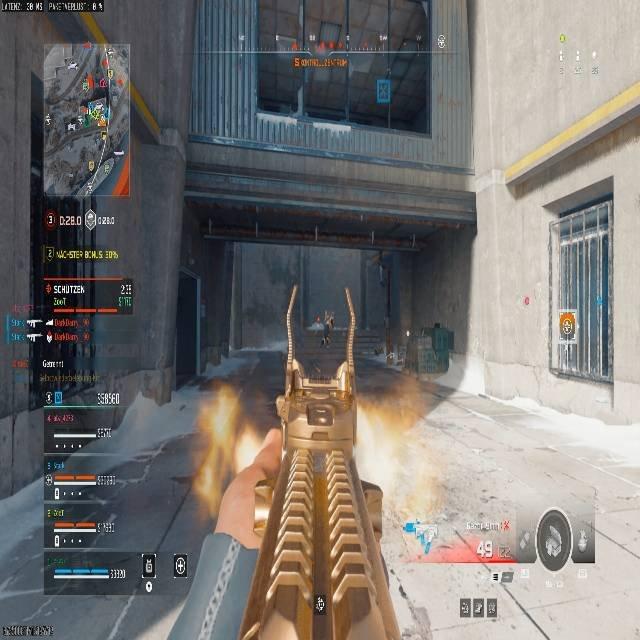player: (321, 313, 335, 347)
